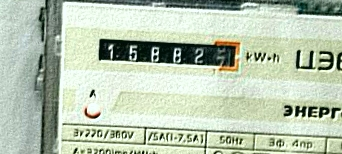1: (105, 41, 116, 60)
2: (193, 46, 205, 64)
5: (127, 44, 139, 61)
7: (215, 54, 227, 66)
8: (148, 44, 161, 62), (171, 45, 183, 64)
screen: (89, 27, 247, 80)
